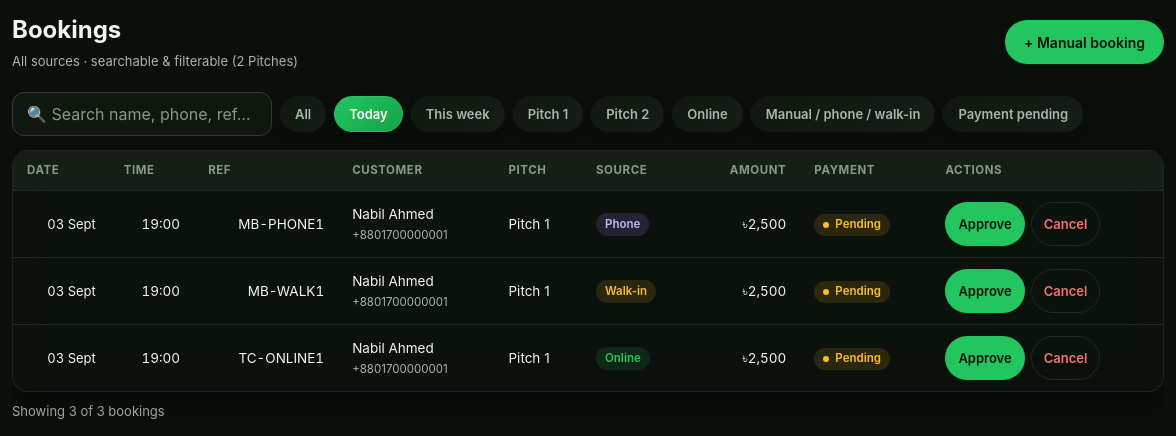
Test: Owner BookingsPage — row actions › filters manual sources as one honest group (Phone vs Walk-in was fabricated from booking-code parity)
The width and height of the screenshot is (1176, 436).
Check: the text "MB-PHONE1" is shown, box 194,191 -> 338,258
Click the button "Manual / phone / walk-in": (843, 114) 751,96 -> 936,132
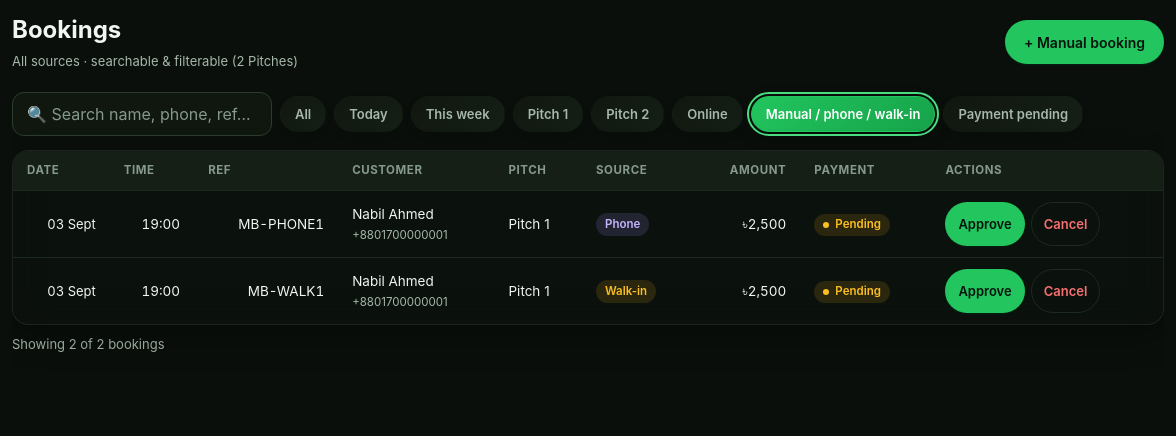
Check: the text "MB-PHONE1" is shown, box 194,191 -> 338,258
Check: the text "TC-ONLINE1" is gone
Click the button "Online": (708, 114) 672,96 -> 743,132
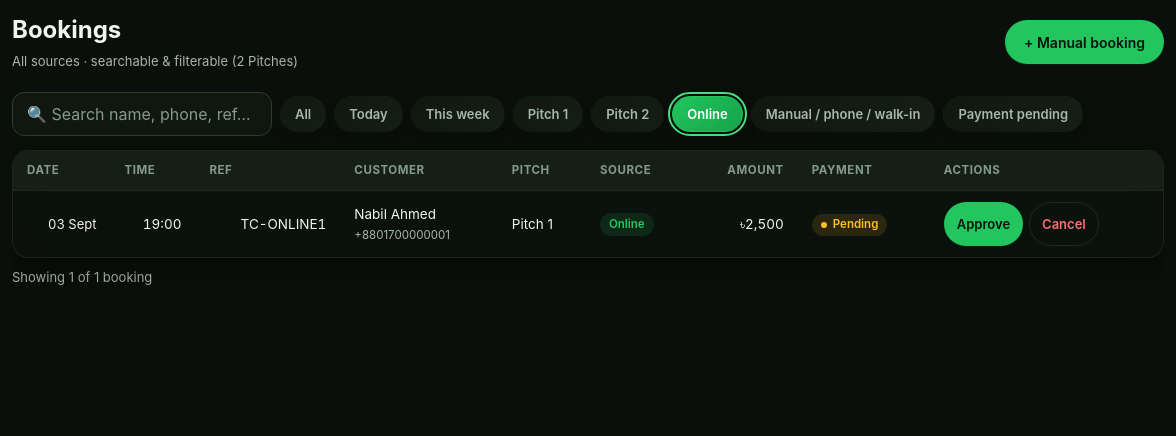
Check: the text "TC-ONLINE1" is shown, box 195,191 -> 340,257
Check: the text "MB-PHONE1" is gone
Check: the text "MB-WALK1" is gone
